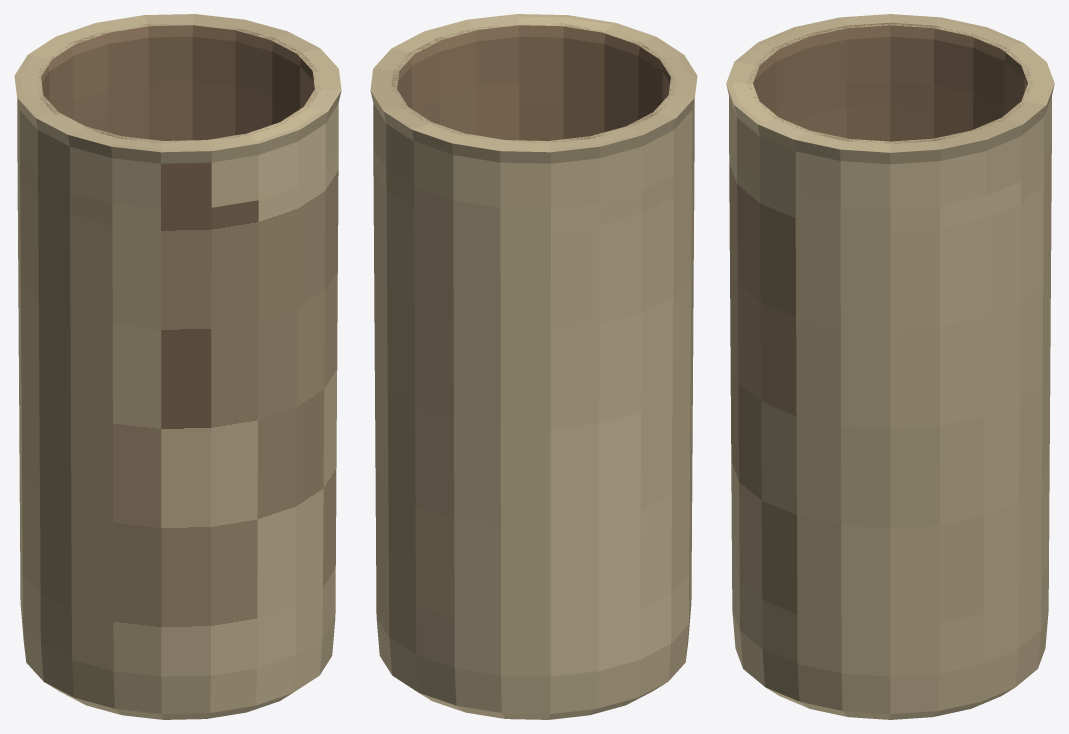
File: antique-tsuboya-dragon.glb
The picture shows the model from 3 angles, left to right: view 1: azimuth 30°, elevation 25°; view 2: azimuth 150°, elevation 25°; view 3: azimuth 270°, elevation 25°; orthographic projection.
Visible parts, largest first — view 1: antique-tsuboya-dragon/vessel-3, antique-tsuboya-dragon/vessel-4, antique-tsuboya-dragon/vessel-10, antique-tsuboya-dragon/vessel-2, antique-tsuboya-dragon/vessel-11, antique-tsuboya-dragon/vessel-7, antique-tsuboya-dragon/vessel-5, antique-tsuboya-dragon/vessel-9, antique-tsuboya-dragon/vessel-6, antique-tsuboya-dragon/vessel-1, antique-tsuboya-dragon/vessel-8; view 2: antique-tsuboya-dragon/vessel-3, antique-tsuboya-dragon/vessel-4, antique-tsuboya-dragon/vessel-10, antique-tsuboya-dragon/vessel-2, antique-tsuboya-dragon/vessel-11, antique-tsuboya-dragon/vessel-7, antique-tsuboya-dragon/vessel-5, antique-tsuboya-dragon/vessel-9, antique-tsuboya-dragon/vessel-6, antique-tsuboya-dragon/vessel-1, antique-tsuboya-dragon/vessel-8; view 3: antique-tsuboya-dragon/vessel-3, antique-tsuboya-dragon/vessel-4, antique-tsuboya-dragon/vessel-10, antique-tsuboya-dragon/vessel-2, antique-tsuboya-dragon/vessel-11, antique-tsuboya-dragon/vessel-7, antique-tsuboya-dragon/vessel-5, antique-tsuboya-dragon/vessel-9, antique-tsuboya-dragon/vessel-6, antique-tsuboya-dragon/vessel-8, antique-tsuboya-dragon/vessel-1.
Part boxes in pixels (bbox=[...]): antique-tsuboya-dragon/vessel-3: bbox=[17, 135, 338, 676]; antique-tsuboya-dragon/vessel-4: bbox=[17, 99, 338, 208]; antique-tsuboya-dragon/vessel-10: bbox=[42, 36, 314, 110]; antique-tsuboya-dragon/vessel-2: bbox=[20, 606, 335, 713]; antique-tsuboya-dragon/vessel-11: bbox=[58, 82, 297, 140]; antique-tsuboya-dragon/vessel-7: bbox=[20, 16, 335, 149]; antique-tsuboya-dragon/vessel-5: bbox=[17, 91, 341, 163]; antique-tsuboya-dragon/vessel-9: bbox=[41, 25, 313, 82]; antique-tsuboya-dragon/vessel-6: bbox=[14, 14, 341, 152]; antique-tsuboya-dragon/vessel-1: bbox=[46, 683, 292, 719]; antique-tsuboya-dragon/vessel-8: bbox=[37, 23, 320, 142]; antique-tsuboya-dragon/vessel-3: bbox=[373, 135, 694, 676]; antique-tsuboya-dragon/vessel-4: bbox=[373, 99, 694, 208]; antique-tsuboya-dragon/vessel-10: bbox=[397, 36, 669, 110]; antique-tsuboya-dragon/vessel-2: bbox=[376, 606, 691, 713]; antique-tsuboya-dragon/vessel-11: bbox=[414, 82, 653, 140]; antique-tsuboya-dragon/vessel-7: bbox=[376, 16, 691, 149]; antique-tsuboya-dragon/vessel-5: bbox=[370, 91, 694, 163]; antique-tsuboya-dragon/vessel-9: bbox=[398, 25, 670, 82]; antique-tsuboya-dragon/vessel-6: bbox=[370, 14, 697, 152]; antique-tsuboya-dragon/vessel-1: bbox=[419, 683, 665, 719]; antique-tsuboya-dragon/vessel-8: bbox=[391, 23, 675, 142]; antique-tsuboya-dragon/vessel-3: bbox=[729, 142, 1051, 676]; antique-tsuboya-dragon/vessel-4: bbox=[729, 96, 1051, 209]; antique-tsuboya-dragon/vessel-10: bbox=[754, 36, 1026, 110]; antique-tsuboya-dragon/vessel-2: bbox=[732, 610, 1048, 714]; antique-tsuboya-dragon/vessel-11: bbox=[771, 82, 1009, 141]; antique-tsuboya-dragon/vessel-7: bbox=[732, 16, 1048, 150]; antique-tsuboya-dragon/vessel-5: bbox=[726, 84, 1054, 164]; antique-tsuboya-dragon/vessel-9: bbox=[753, 25, 1027, 84]; antique-tsuboya-dragon/vessel-6: bbox=[726, 14, 1054, 152]; antique-tsuboya-dragon/vessel-8: bbox=[747, 22, 1032, 143]; antique-tsuboya-dragon/vessel-1: bbox=[766, 687, 1014, 719].
Bounding box in the file's own units: 0.375 × 0.7284 × 0.375.
3 materials, 3 textured.
